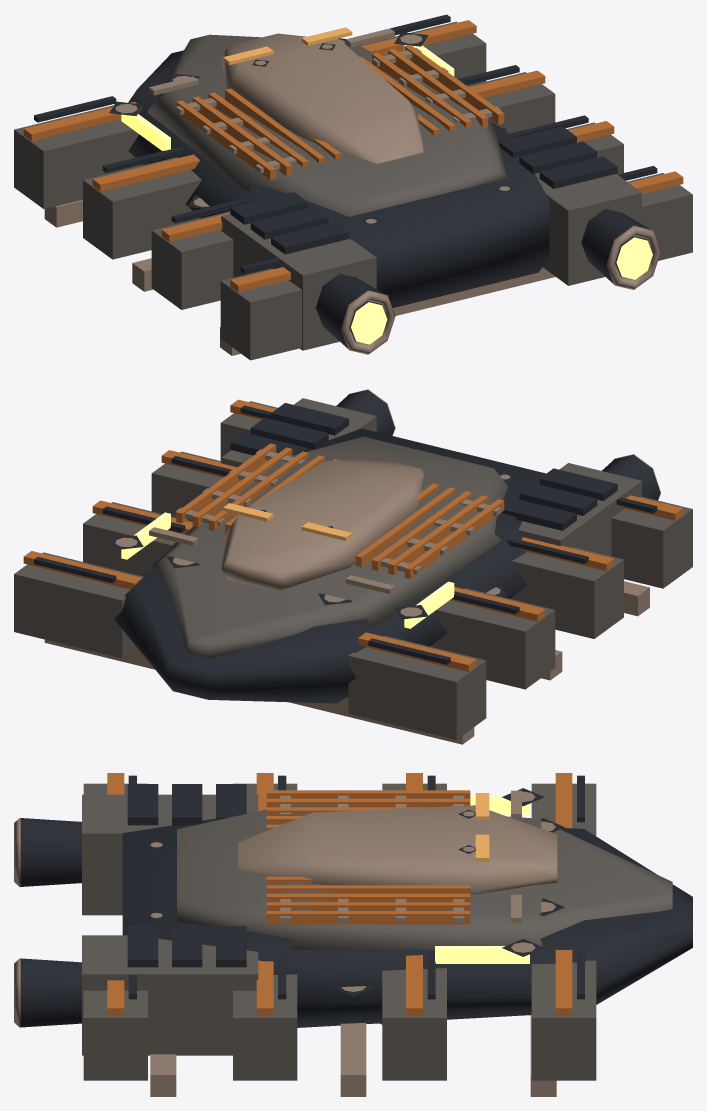
Rendered from compact_high_gravity--bulk_freighter--lod1.glb.
3 renders of one model, top to bottom at view 1: azimuth 30°, elevation 25°; view 2: azimuth 150°, elevation 25°; view 3: azimuth 270°, elevation 25°, orthographic. The views are drawn at different scales.
Visible parts, largest first — view 1: load_bearing_wedge_1, stepped_main_plate_2, reinforced_command_deck_3, freight_vault_47, freight_vault_50, armored_drive_block_4, armored_drive_block_25, freight_vault_56, freight_vault_53, freight_vault_68, freight_vault_62, engine_shroud_5 (+37 smaller); view 2: stepped_main_plate_2, load_bearing_wedge_1, reinforced_command_deck_3, freight_vault_47, freight_vault_59, freight_vault_50, freight_vault_53, freight_vault_56, armored_drive_block_4, freight_vault_62, freight_vault_65, through_hull_load_member_71 (+32 smaller); view 3: load_bearing_wedge_1, stepped_main_plate_2, reinforced_command_deck_3, armored_drive_block_25, freight_vault_59, armored_drive_block_4, freight_vault_62, freight_vault_65, freight_vault_68, engine_shroud_5, engine_shroud_26, deck_load_rib_37 (+24 smaller).
Boxes of the visible parts, bbox=[...] form: load_bearing_wedge_1: bbox=[128, 50, 549, 307]; stepped_main_plate_2: bbox=[147, 34, 508, 216]; reinforced_command_deck_3: bbox=[221, 33, 424, 163]; freight_vault_47: bbox=[14, 105, 142, 208]; freight_vault_50: bbox=[83, 157, 201, 259]; armored_drive_block_4: bbox=[221, 214, 376, 350]; armored_drive_block_25: bbox=[535, 172, 641, 285]; freight_vault_56: bbox=[220, 268, 301, 360]; freight_vault_53: bbox=[151, 211, 233, 309]; freight_vault_68: bbox=[627, 173, 692, 260]; freight_vault_62: bbox=[451, 72, 555, 133]; engine_shroud_5: bbox=[315, 273, 385, 348]; stepped_main_plate_2: bbox=[147, 436, 508, 658]; load_bearing_wedge_1: bbox=[114, 428, 545, 703]; reinforced_command_deck_3: bbox=[221, 458, 423, 591]; freight_vault_47: bbox=[348, 636, 486, 739]; freight_vault_59: bbox=[14, 552, 143, 658]; freight_vault_50: bbox=[429, 588, 555, 689]; freight_vault_53: bbox=[510, 547, 623, 638]; freight_vault_56: bbox=[611, 496, 692, 588]; armored_drive_block_4: bbox=[518, 463, 641, 556]; freight_vault_62: bbox=[83, 502, 192, 576]; freight_vault_65: bbox=[151, 451, 238, 520]; through_hull_load_member_71: bbox=[44, 639, 474, 744]; load_bearing_wedge_1: bbox=[122, 818, 692, 1027]; stepped_main_plate_2: bbox=[177, 804, 672, 949]; reinforced_command_deck_3: bbox=[238, 805, 557, 894]; armored_drive_block_25: bbox=[82, 935, 258, 1055]; freight_vault_59: bbox=[531, 960, 596, 1080]; armored_drive_block_4: bbox=[82, 794, 258, 915]; freight_vault_62: bbox=[382, 968, 446, 1080]; freight_vault_65: bbox=[233, 974, 297, 1080]; freight_vault_68: bbox=[83, 990, 147, 1080]; engine_shroud_5: bbox=[20, 818, 81, 886]; engine_shroud_26: bbox=[20, 958, 81, 1027]; deck_load_rib_37: bbox=[266, 911, 470, 924].
Size of the model in its own units: 320 by 102 by 390.
